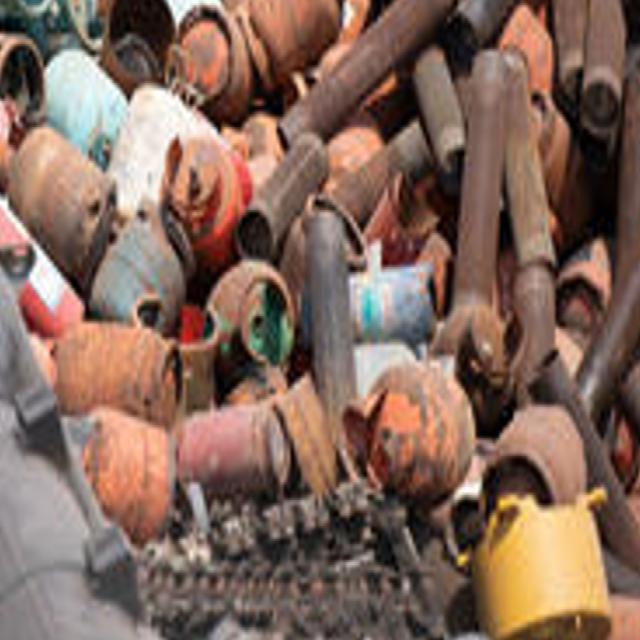cylinder: (1, 113, 117, 287), (337, 365, 476, 501), (159, 132, 247, 278), (209, 260, 295, 392)
